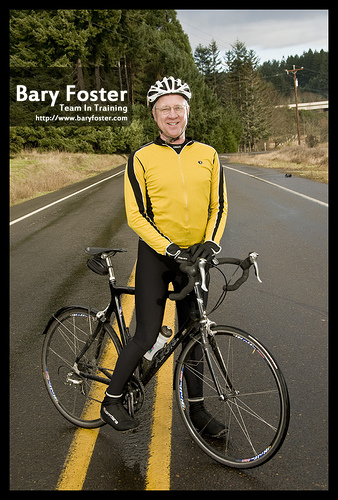helmet: (142, 77, 199, 103)
